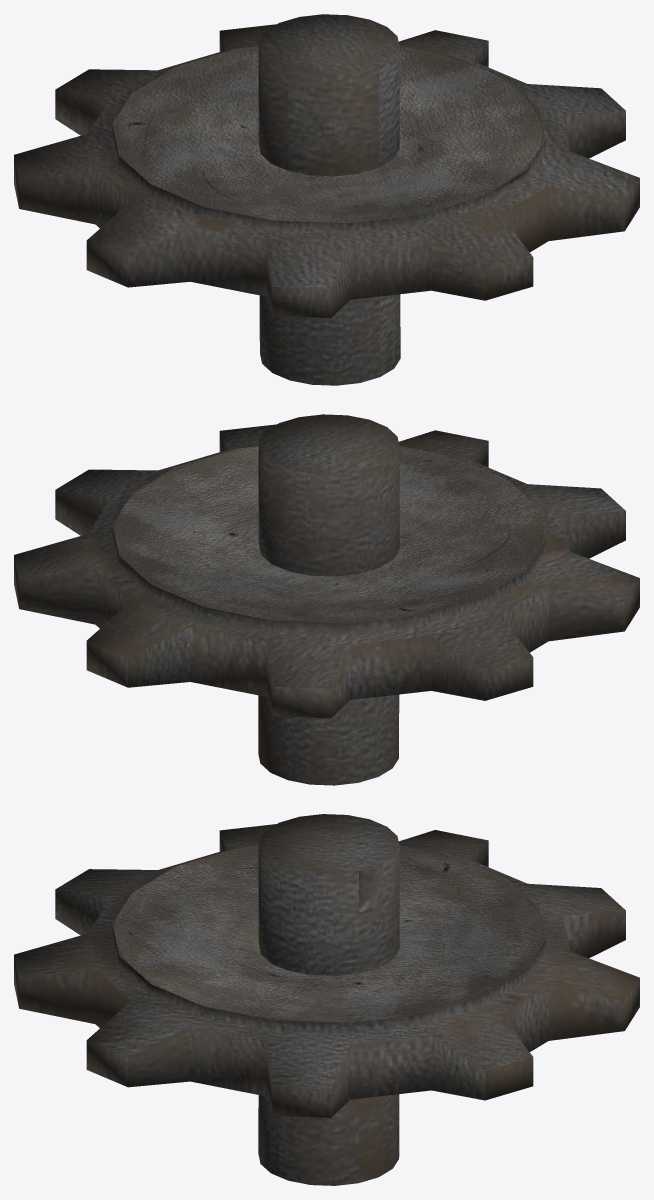
File: cogwheel2.glb
The picture shows the model from 3 angles, top to bottom: view 1: azimuth 30°, elevation 25°; view 2: azimuth 150°, elevation 25°; view 3: azimuth 270°, elevation 25°; orthographic projection.
Visible parts, largest first — view 1: metal_rusted.jpg__, metal_rusted_circle.jpg__; view 2: metal_rusted.jpg__, metal_rusted_circle.jpg__; view 3: metal_rusted.jpg__, metal_rusted_circle.jpg__.
Part boxes in pixels (bbox=[...]): metal_rusted.jpg__: bbox=[14, 14, 639, 385]; metal_rusted_circle.jpg__: bbox=[112, 45, 545, 223]; metal_rusted.jpg__: bbox=[14, 414, 639, 785]; metal_rusted_circle.jpg__: bbox=[112, 446, 545, 623]; metal_rusted.jpg__: bbox=[14, 814, 639, 1185]; metal_rusted_circle.jpg__: bbox=[112, 845, 545, 1022].
Bounding box in the file's own units: 5.1 × 2.8 × 5.1.
Materials: 2 (2 with a texture image).
